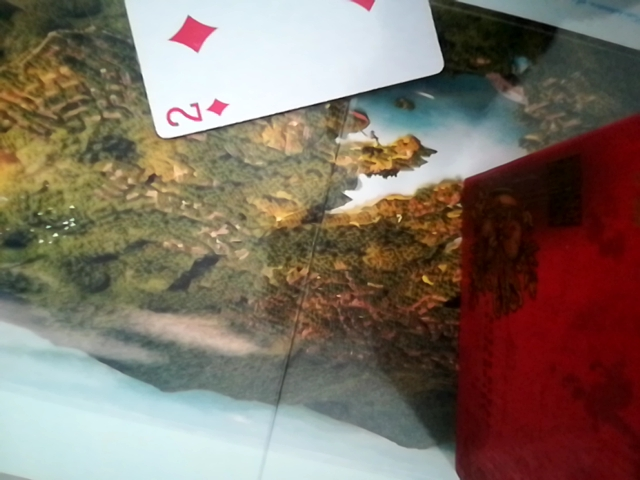fk 2: (104, 0, 437, 140)
